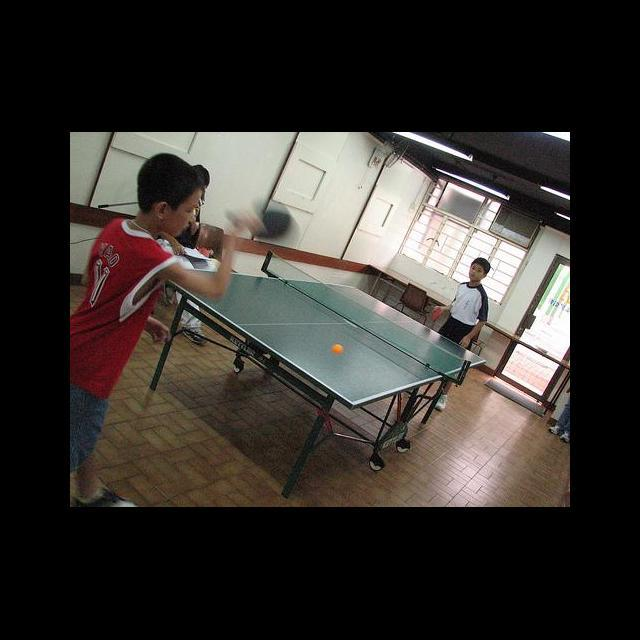ping-pong-ball: (332, 344, 344, 354)
